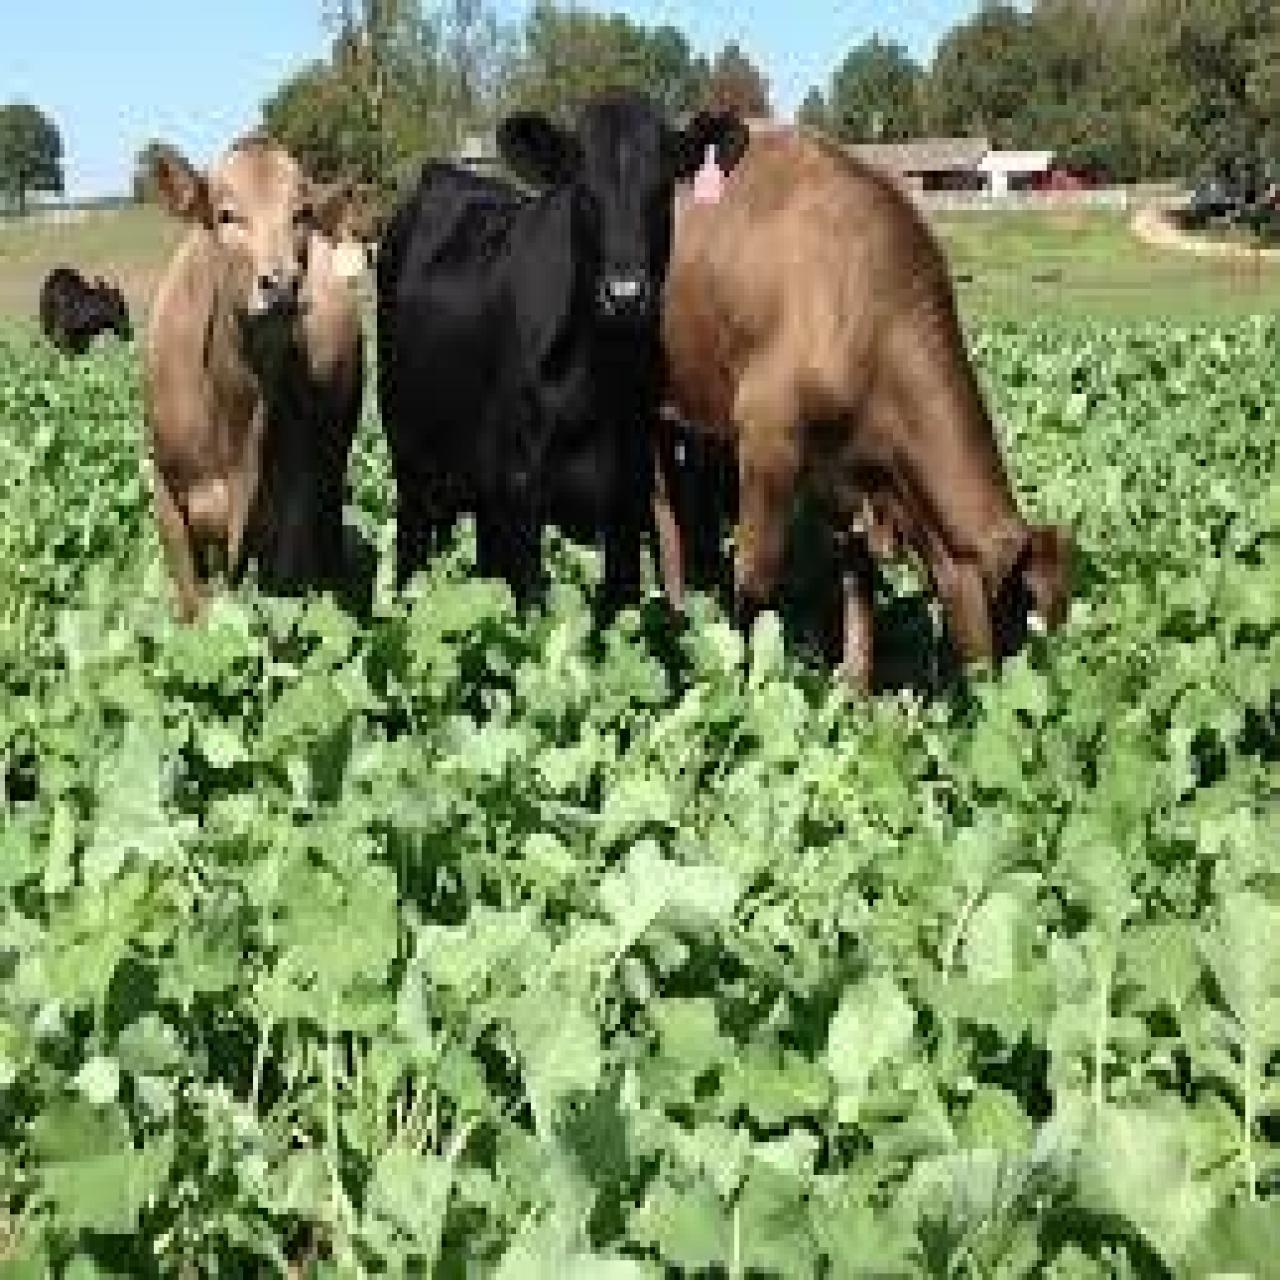cow: (655, 125, 1067, 696), (372, 95, 749, 627), (144, 124, 367, 618), (35, 256, 134, 361)
